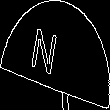N_S: (39, 26, 71, 84)
